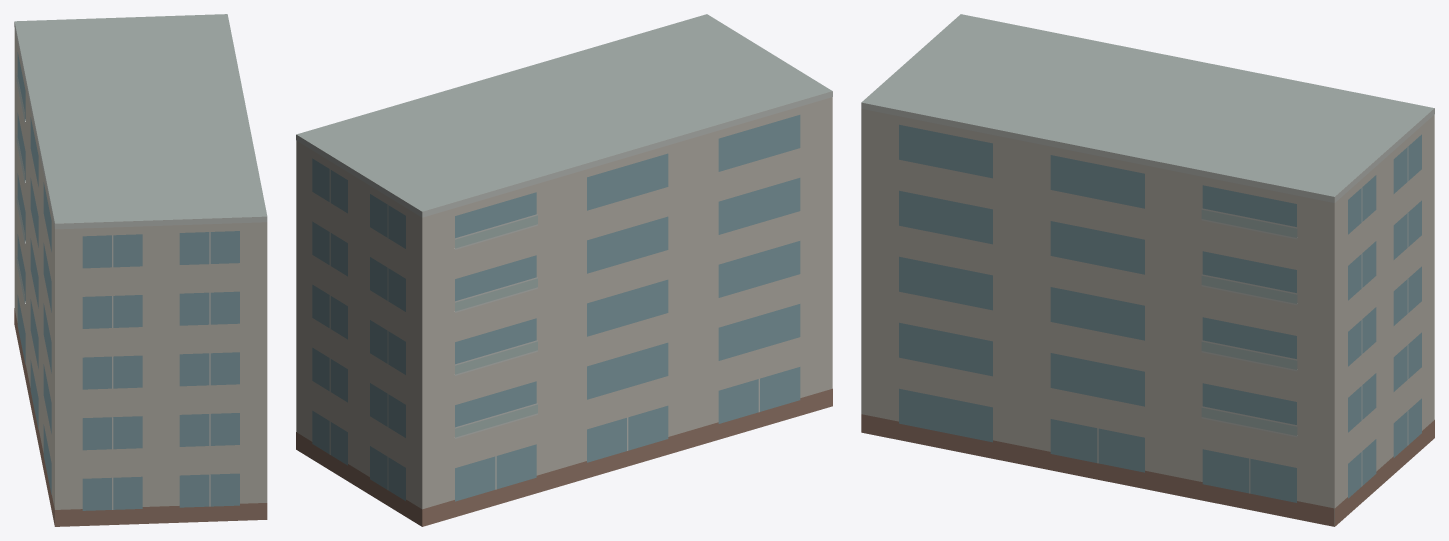
File: survey-upis-33007262.glb
3 renders of one model, left to right at view 1: azimuth 30°, elevation 25°; view 2: azimuth 150°, elevation 25°; view 3: azimuth 270°, elevation 25°, orthographic. The views are drawn at different scales.
Parts seen in each view (by area): view 1: survey-upis-33007262.tmp; view 2: survey-upis-33007262.tmp; view 3: survey-upis-33007262.tmp.
Boxes of the visible parts, x1,y1,x2,y2 form: survey-upis-33007262.tmp: (14,14,267,526); survey-upis-33007262.tmp: (296,14,832,526); survey-upis-33007262.tmp: (861,14,1434,526).
Size of the model in its own units: 15.47 by 13 by 20.49.
